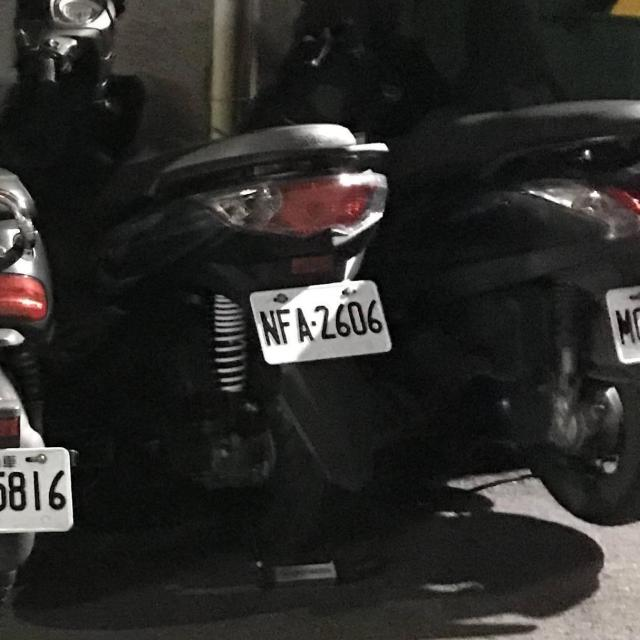W: (242, 272, 394, 372), (0, 437, 78, 544), (599, 258, 640, 371)
